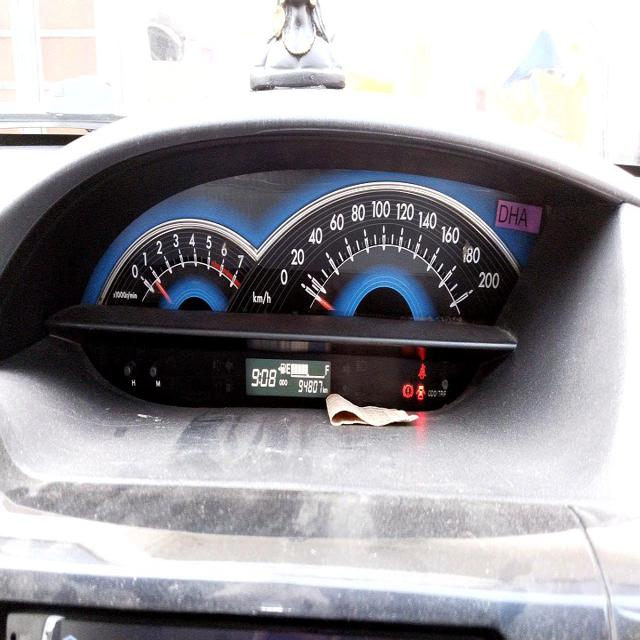odometer: (296, 376, 323, 394)
